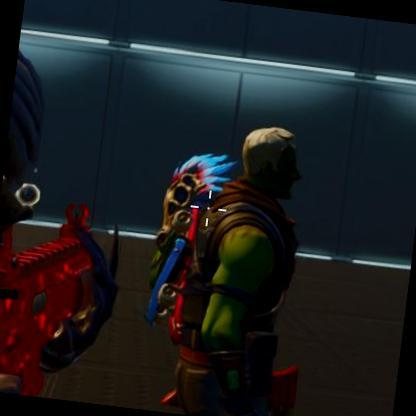person: (158, 112, 320, 416)
